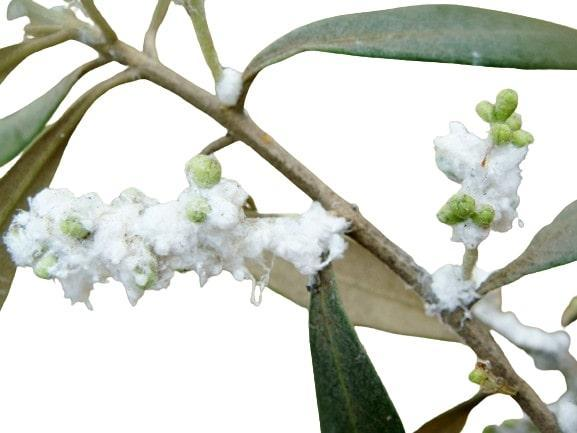Psyllid: (4, 166, 354, 304), (420, 258, 575, 428), (415, 91, 544, 272), (207, 60, 251, 115)
